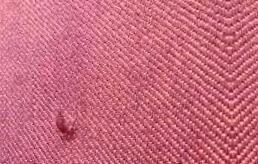knot: (53, 109, 80, 142)
